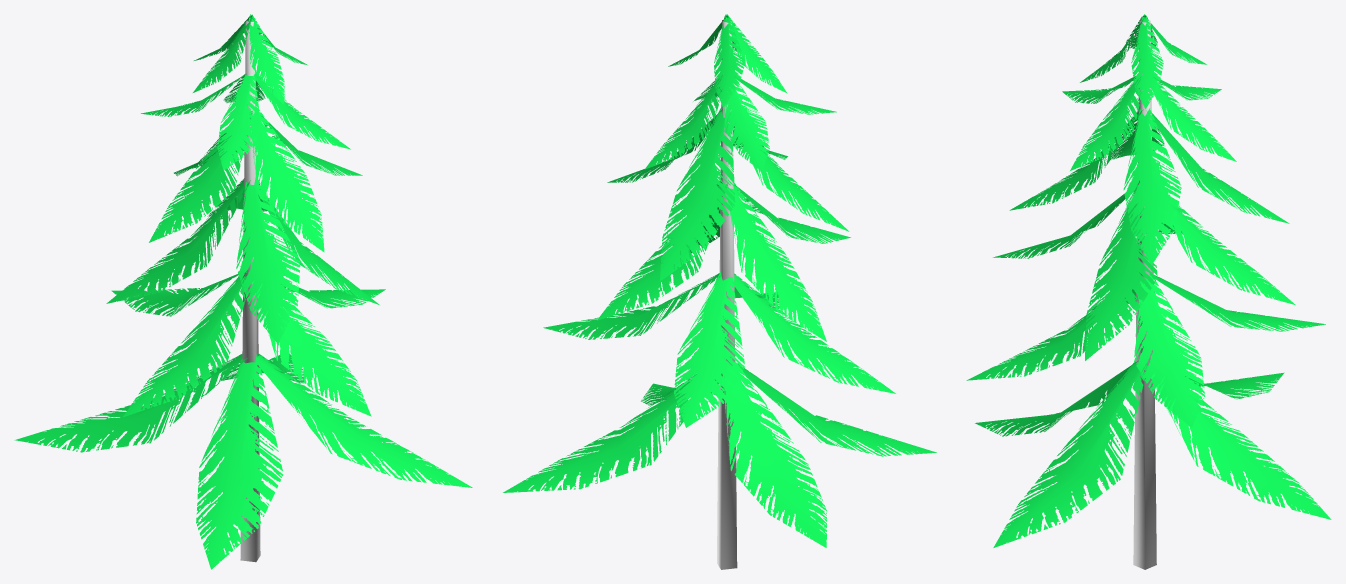
Rendered from StylisedPinetree1.fbx.
The picture shows the model from 3 angles, left to right: view 1: azimuth 30°, elevation 25°; view 2: azimuth 150°, elevation 25°; view 3: azimuth 270°, elevation 25°; orthographic projection.
Parts seen in each view (by area): view 1: Plane.070, Cylinder.001; view 2: Plane.070, Cylinder.001; view 3: Plane.070, Cylinder.001.
Part boxes in pixels (x1=…): Plane.070: x1=14, y1=14, x2=472, y2=569; Cylinder.001: x1=240, y1=20, x2=260, y2=562; Plane.070: x1=503, y1=14, x2=936, y2=547; Cylinder.001: x1=717, y1=20, x2=737, y2=569; Plane.070: x1=966, y1=14, x2=1331, y2=547; Cylinder.001: x1=1133, y1=20, x2=1156, y2=569.
Bounding box in the file's own units: 2.84 × 4.53 × 2.73.
